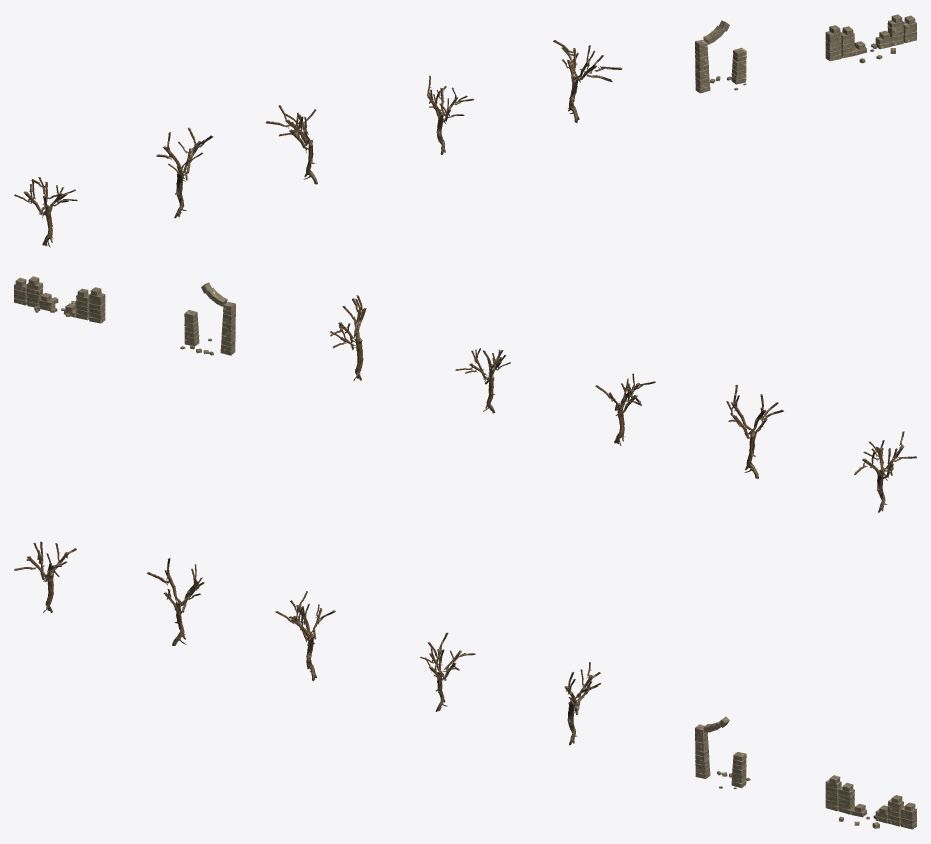
The model's file is horizon.glb.
The picture shows the model from 3 angles, top to bottom: view 1: azimuth 30°, elevation 25°; view 2: azimuth 150°, elevation 25°; view 3: azimuth 330°, elevation 25°; orthographic projection.
Visible parts, largest first — view 1: wall_0, arch_0, tree_4, tree_1, tree_0, tree_2, tree_3; view 2: wall_0, arch_0, tree_1, tree_0, tree_4, tree_2, tree_3; view 3: wall_0, arch_0, tree_2, tree_1, tree_0, tree_3, tree_4.
Part boxes in pixels (x1,y1,x2,y2): wall_0: (825,14,916,63); arch_0: (695,20,746,93); tree_4: (553,40,621,122); tree_1: (156,127,213,218); tree_0: (14,177,77,247); tree_2: (265,105,317,184); tree_3: (427,75,473,154); wall_0: (14,276,105,323); arch_0: (180,282,235,355); tree_1: (726,385,783,478); tree_0: (854,431,916,512); tree_4: (330,295,366,380); tree_2: (595,373,655,445); tree_3: (455,348,510,413); wall_0: (825,775,916,829); arch_0: (695,716,750,789); tree_2: (275,591,335,680); tree_1: (147,558,204,645); tree_0: (14,541,76,612); tree_3: (420,632,475,711); tree_4: (564,662,601,745).
Bounding box in the file's own units: 109 × 10.41 × 9.37.
2 materials, 2 textured.
